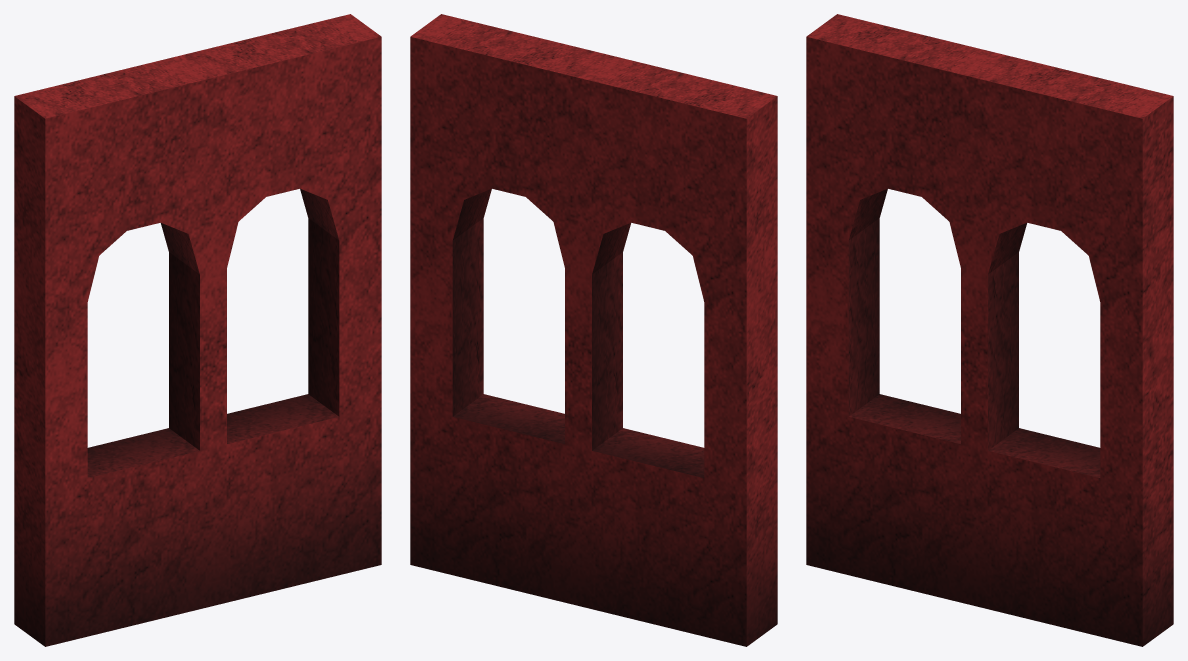
The model's file is Dobble_Window.fbx.
3 views of the same model, side by side, from view 1: azimuth 30°, elevation 25°; view 2: azimuth 150°, elevation 25°; view 3: azimuth 330°, elevation 25° (orthographic).
Visible parts, largest first — view 1: Cube.006; view 2: Cube.006; view 3: Cube.006.
Part boxes in pixels (bbox=[...]): Cube.006: bbox=[14, 14, 381, 646]; Cube.006: bbox=[410, 14, 777, 646]; Cube.006: bbox=[806, 14, 1173, 646].
Bounding box in the file's own units: 200 × 300 × 32.
